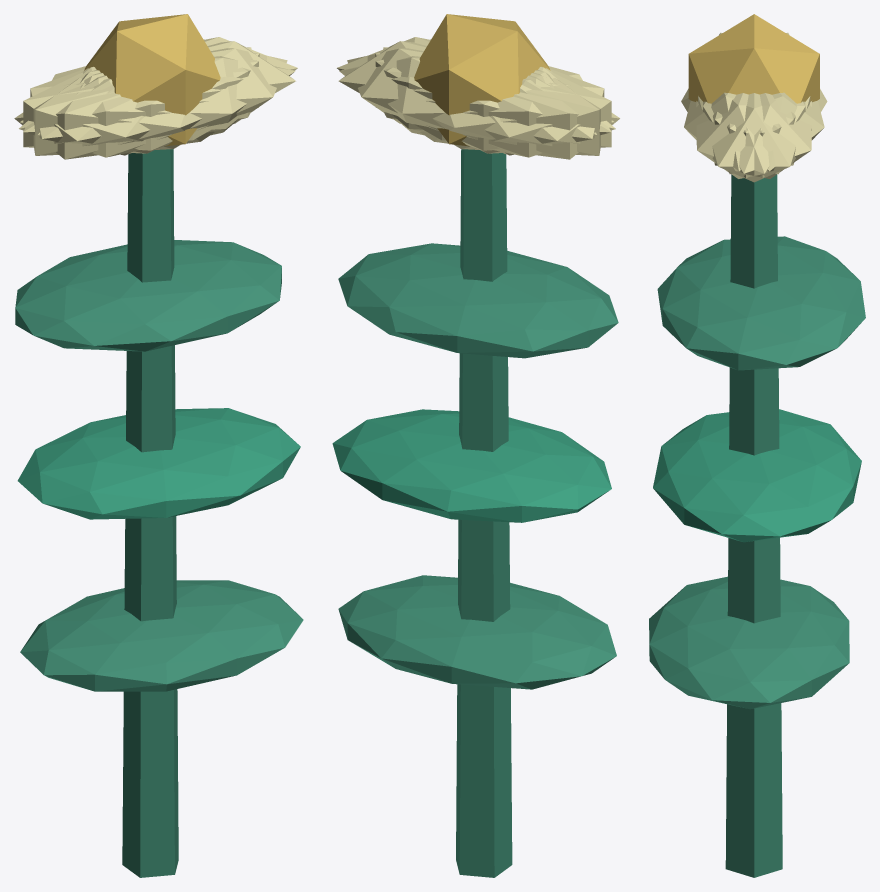
File: sicyos-edulis.glb
The picture shows the model from 3 angles, left to right: view 1: azimuth 30°, elevation 25°; view 2: azimuth 150°, elevation 25°; view 3: azimuth 270°, elevation 25°; orthographic projection.
Parts seen in each view (by area): view 1: stem, leaf0, leaf1, leaf2, center, petal1, petal6, petal2, petal5, petal7, petal0, petal4 (+2 smaller); view 2: stem, leaf2, leaf1, leaf0, center, petal8, petal3, petal7, petal4, petal2, petal0, petal5 (+2 smaller); view 3: stem, leaf1, leaf2, leaf0, center, petal0, petal5, petal4, petal1, petal8.
Part boxes in pixels (x1=…): stem: x1=122, y1=149, x2=178, y2=877; leaf0: x1=20, y1=580, x2=303, y2=691; leaf1: x1=17, y1=408, x2=300, y2=519; leaf2: x1=15, y1=240, x2=281, y2=351; center: x1=84, y1=14, x2=220, y2=146; petal1: x1=19, y1=56, x2=295, y2=157; petal6: x1=14, y1=68, x2=214, y2=159; petal2: x1=33, y1=47, x2=251, y2=155; petal5: x1=37, y1=48, x2=287, y2=150; petal7: x1=23, y1=53, x2=259, y2=153; petal0: x1=84, y1=41, x2=295, y2=140; petal4: x1=20, y1=37, x2=297, y2=132; stem: x1=456, y1=149, x2=512, y2=877; leaf2: x1=338, y1=243, x2=618, y2=358; leaf1: x1=332, y1=409, x2=611, y2=522; leaf0: x1=338, y1=575, x2=616, y2=689; center: x1=414, y1=14, x2=550, y2=146; petal8: x1=339, y1=56, x2=615, y2=157; petal3: x1=420, y1=68, x2=619, y2=159; petal7: x1=383, y1=47, x2=600, y2=155; petal4: x1=347, y1=48, x2=596, y2=150; petal2: x1=375, y1=53, x2=611, y2=153; petal0: x1=338, y1=41, x2=550, y2=140; petal5: x1=337, y1=37, x2=614, y2=132; stem: x1=725, y1=174, x2=782, y2=877; leaf1: x1=653, y1=409, x2=861, y2=542; leaf2: x1=657, y1=236, x2=865, y2=370; leaf0: x1=649, y1=576, x2=849, y2=709; center: x1=688, y1=14, x2=819, y2=103; petal0: x1=698, y1=93, x2=810, y2=182; petal5: x1=696, y1=93, x2=805, y2=178; petal4: x1=703, y1=93, x2=812, y2=178; petal1: x1=684, y1=92, x2=795, y2=171; petal8: x1=713, y1=92, x2=824, y2=171.
Bounding box in the file's own units: 0.1452 × 0.4299 × 0.1013.
